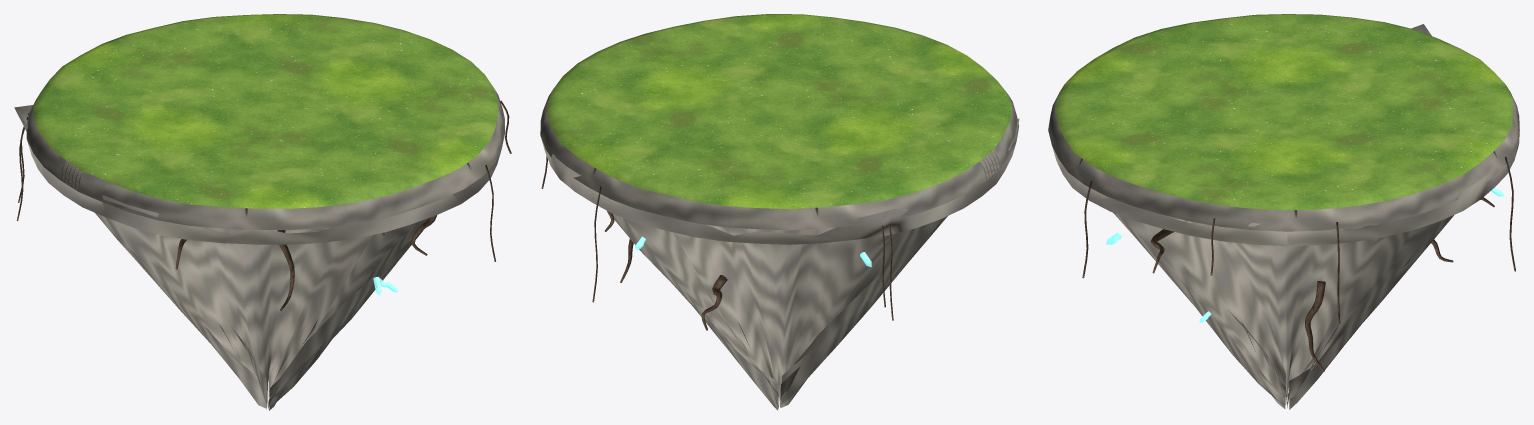
The model's file is sky_platform_small.glb.
The picture shows the model from 3 angles, left to right: view 1: azimuth 30°, elevation 25°; view 2: azimuth 150°, elevation 25°; view 3: azimuth 270°, elevation 25°; orthographic projection.
Visible parts, largest first — view 1: IslandTop-col, IslandRock, IslandRoots; view 2: IslandTop-col, IslandRock, IslandRoots; view 3: IslandTop-col, IslandRock, IslandRoots.
Part boxes in pixels (x1,y1,x2,y2): IslandTop-col: (26,14,504,230); IslandRock: (14,105,501,410); IslandRoots: (16,100,511,310); IslandTop-col: (540,14,1018,230); IslandRock: (541,118,1019,410); IslandRoots: (541,155,893,330); IslandTop-col: (1048,14,1519,231); IslandRock: (1052,24,1518,409); IslandRoots: (1082,156,1515,371).
Size of the model in its own units: 18.68 by 12.83 by 18.22.
4 materials, 3 textured.
